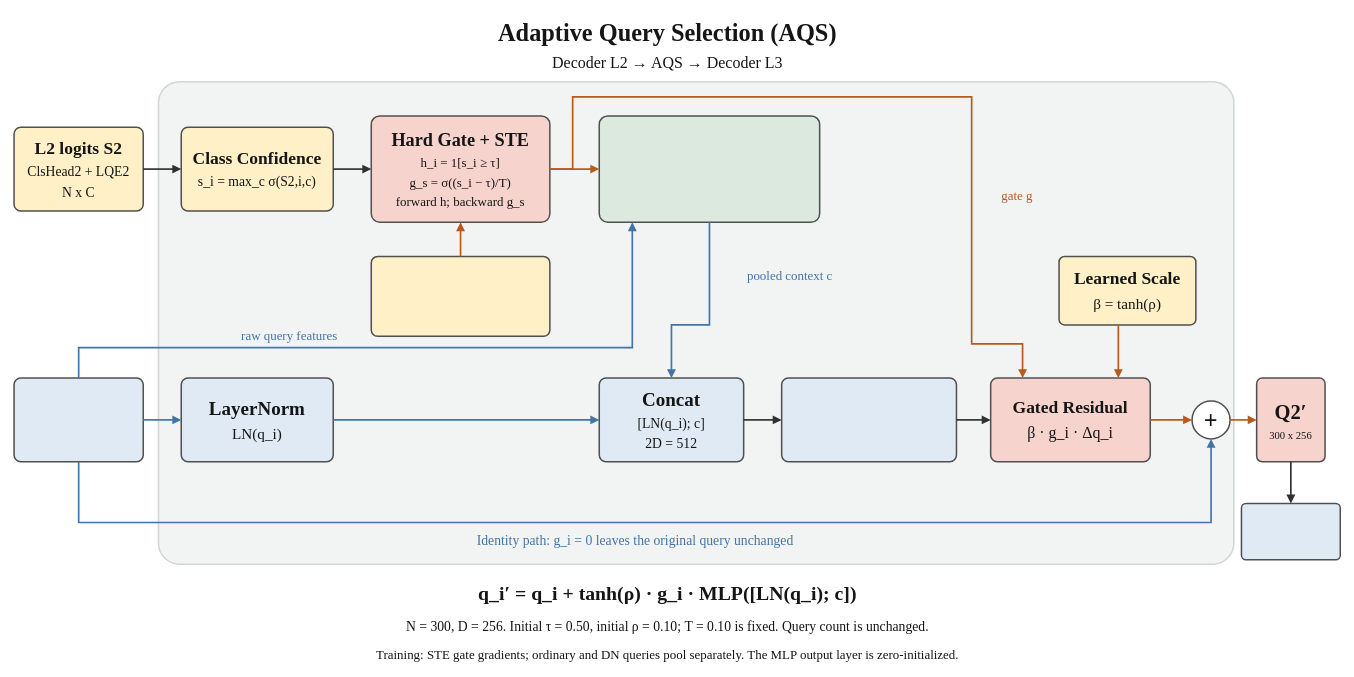
The diagram is 1354 pixels wide and 677 high, and some of its shapes have lost their labels. The shapes that lost their labels are listed below. From the top down, each one's centre as x and y in pixels, then its label:
[709,169]: Selected-query Mean c = Σ(g_i q_i) / max(Σg_i, 1) Broadcast c to N queries
[460,296]: Learned Threshold τ = σ(θ) T = 0.10 (fixed)
[78,419]: L2 query Q2 300 x 256
[869,419]: Fusion MLP Linear → SiLU → Linear 512 → 256 → 256
[1290,531]: Decoder L3 next layer
